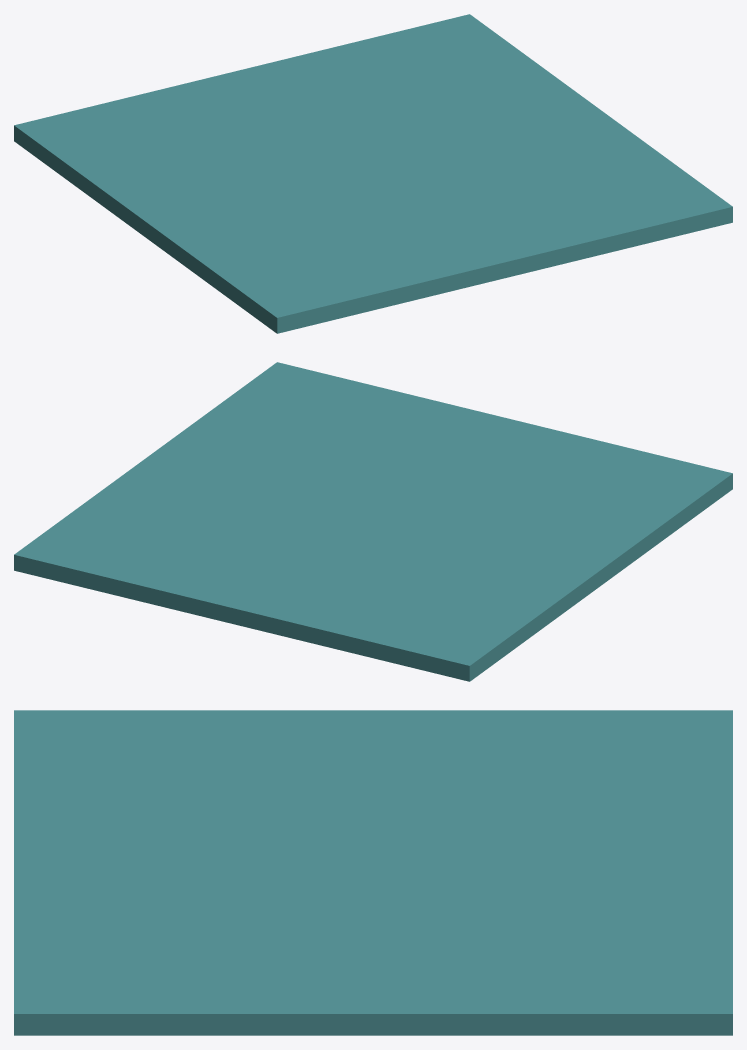
File: Tek Double Cellar Door.glb
3 views of the same model, one above another, from view 1: azimuth 30°, elevation 25°; view 2: azimuth 150°, elevation 25°; view 3: azimuth 270°, elevation 25° (orthographic). The views are drawn at different scales.
Visible parts, largest first — view 1: SM_Tek_DoorCeilingDouble; view 2: SM_Tek_DoorCeilingDouble; view 3: SM_Tek_DoorCeilingDouble.
Boxes of the visible parts, x1=… form: SM_Tek_DoorCeilingDouble: x1=14, y1=14, x2=732, y2=333; SM_Tek_DoorCeilingDouble: x1=14, y1=362, x2=732, y2=681; SM_Tek_DoorCeilingDouble: x1=14, y1=710, x2=732, y2=1035.
Size of the model in its own units: 3 by 0.1 by 3.
